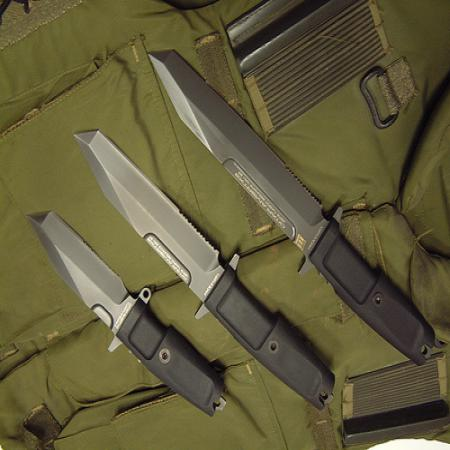long weapon: (145, 47, 323, 247), (68, 128, 220, 298), (20, 206, 130, 338)
